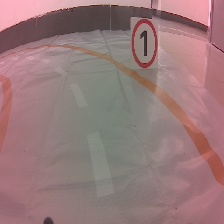limit: (129, 14, 163, 73)
